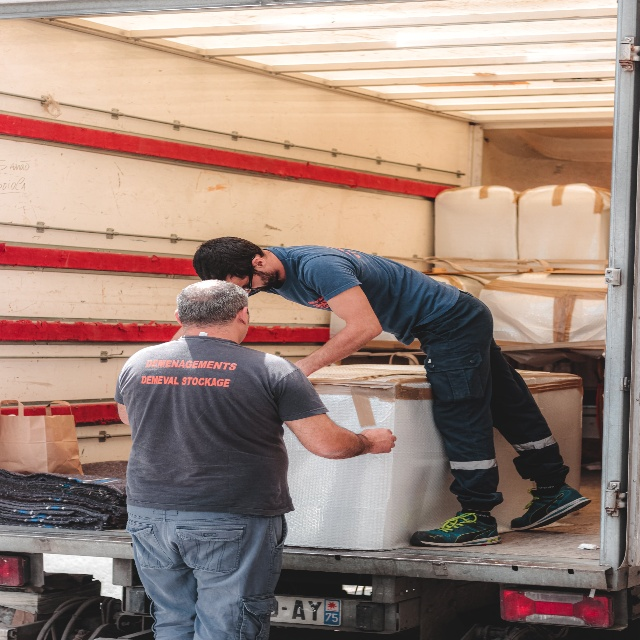Gafas: (242, 253, 256, 294)
Sin_guantes: (361, 428, 397, 454)
